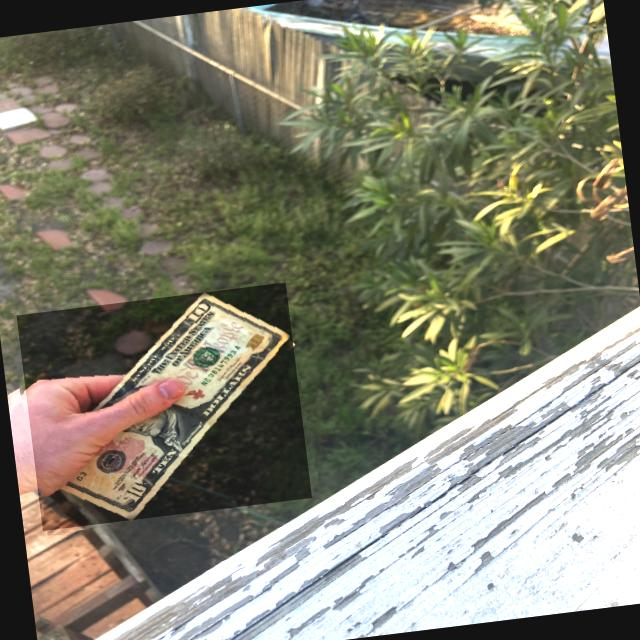ten: (36, 268, 291, 541)
